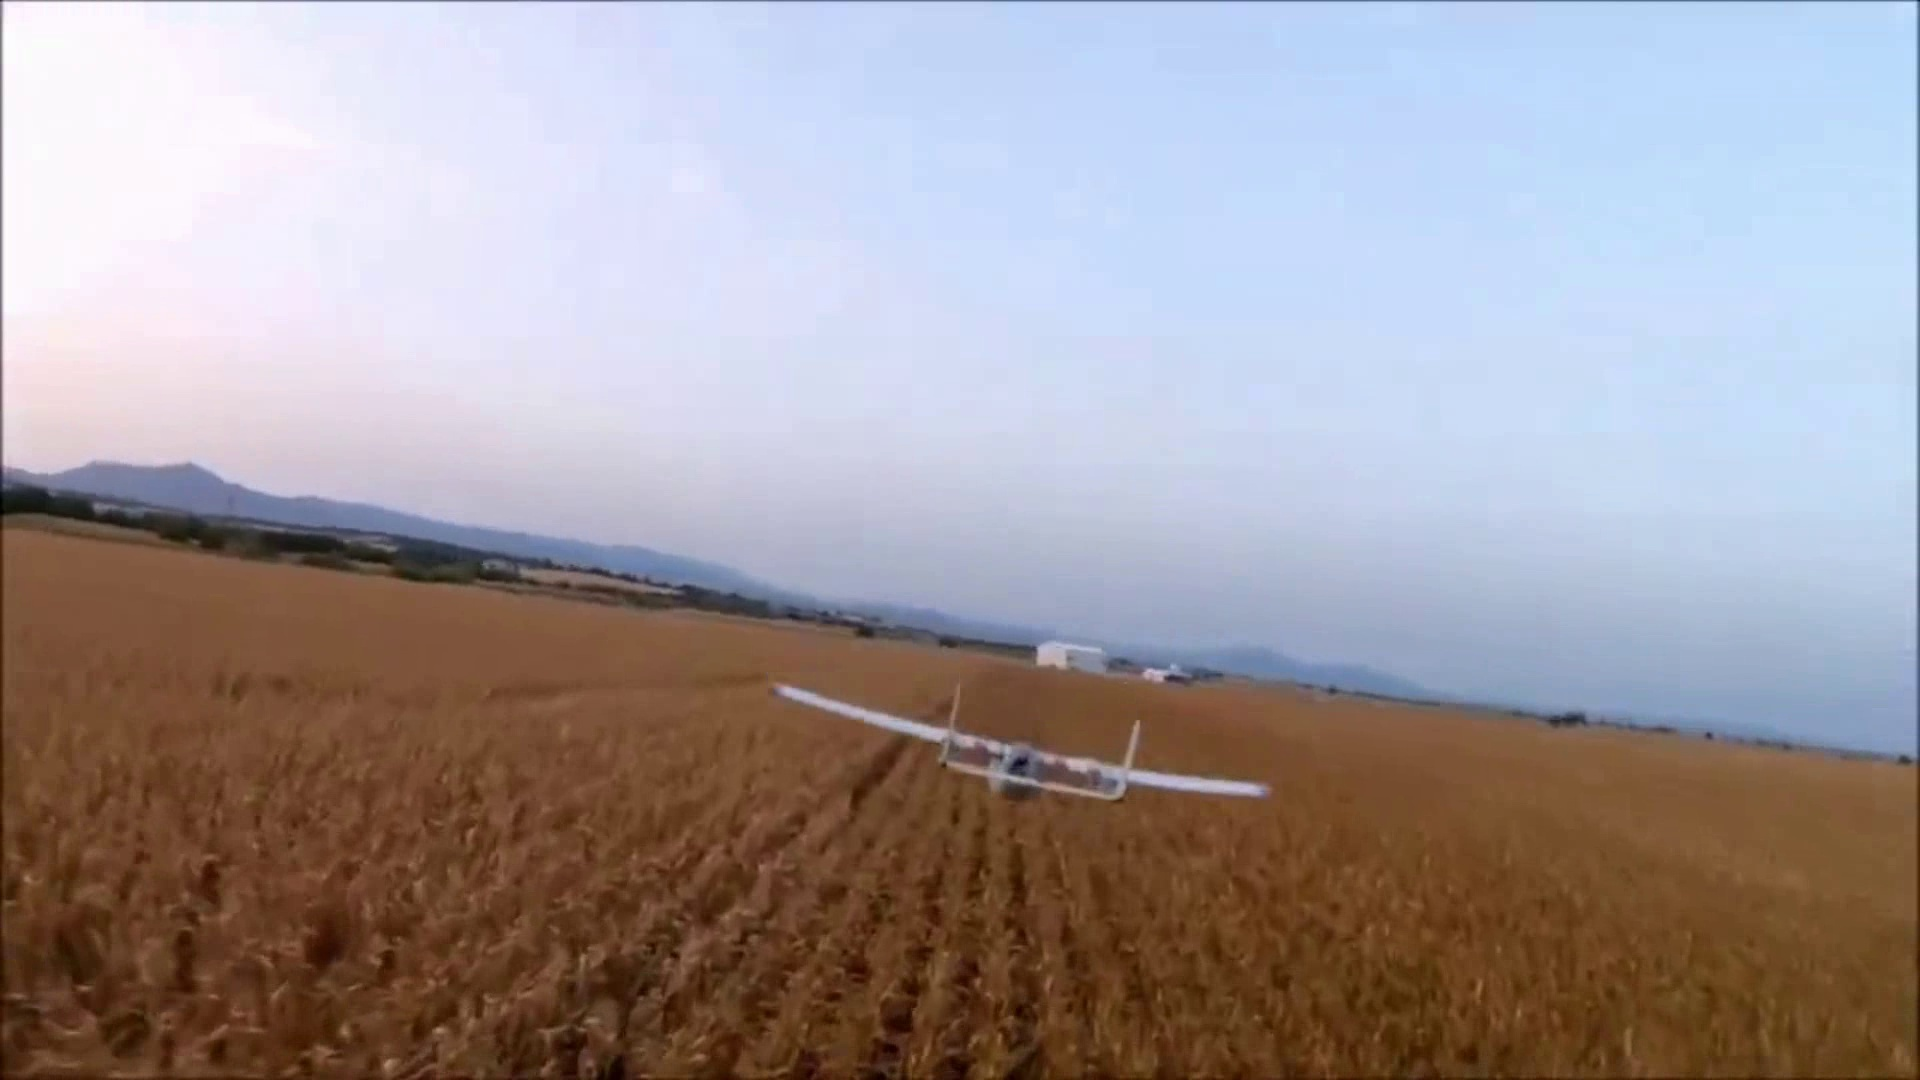airplane: (769, 673, 1271, 806)
